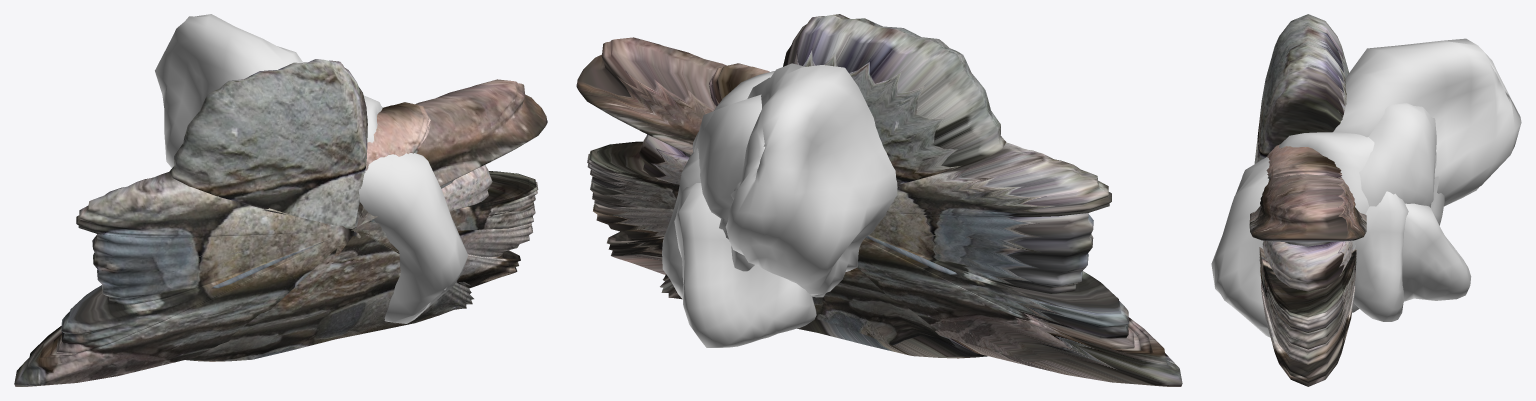
File: JotunheimFoliage.fbx
The picture shows the model from 3 angles, left to right: view 1: azimuth 30°, elevation 25°; view 2: azimuth 150°, elevation 25°; view 3: azimuth 270°, elevation 25°; orthographic projection. The views are drawn at different scales.
Parts seen in each view (by area): view 1: JotunheimWall3, JotunheimWall9, JotunheimSnowRock4, JotunheimSnowRock1, JotunheimWall8, JotunheimWall1, JotunheimWall10, JotunheimSnowRock3; view 2: JotunheimWall3, JotunheimSnowRock1, JotunheimWall9, JotunheimSnowRock2, JotunheimSnowRock4, JotunheimWall8, JotunheimSnowRock5, JotunheimWall10, JotunheimWall1, JotunheimSnowRock3; view 3: JotunheimSnowRock1, JotunheimSnowRock4, JotunheimWall3, JotunheimWall9, JotunheimSnowRock5, JotunheimSnowRock2, JotunheimWall8, JotunheimWall10, JotunheimSnowRock3, JotunheimWall1, JotunheimWall6.
Part boxes in pixels (x1,y1,x2,y2): JotunheimWall3: [14, 79, 547, 386]; JotunheimWall9: [169, 59, 473, 361]; JotunheimSnowRock4: [303, 62, 468, 323]; JotunheimSnowRock1: [155, 14, 303, 167]; JotunheimWall8: [212, 171, 538, 288]; JotunheimWall1: [354, 102, 430, 229]; JotunheimWall10: [372, 164, 492, 222]; JotunheimSnowRock3: [363, 95, 382, 142]; JotunheimWall3: [576, 37, 1182, 386]; JotunheimSnowRock1: [725, 63, 897, 295]; JotunheimWall9: [660, 14, 1006, 358]; JotunheimSnowRock2: [674, 183, 816, 347]; JotunheimSnowRock4: [694, 94, 761, 239]; JotunheimWall8: [587, 141, 957, 274]; JotunheimSnowRock5: [662, 148, 700, 298]; JotunheimWall10: [639, 134, 689, 184]; JotunheimWall1: [709, 63, 769, 106]; JotunheimSnowRock3: [692, 71, 825, 297]; JotunheimSnowRock1: [1333, 38, 1521, 206]; JotunheimSnowRock4: [1211, 103, 1436, 337]; JotunheimWall3: [1249, 174, 1366, 386]; JotunheimWall9: [1254, 14, 1352, 329]; JotunheimSnowRock5: [1353, 191, 1408, 321]; JotunheimSnowRock2: [1402, 203, 1471, 301]; JotunheimWall8: [1259, 247, 1356, 349]; JotunheimWall10: [1262, 240, 1352, 291]; JotunheimSnowRock3: [1279, 132, 1444, 248]; JotunheimWall1: [1266, 144, 1342, 180]; JotunheimWall6: [1268, 242, 1348, 332].
Size of the model in its own units: 491 by 254 by 265.
